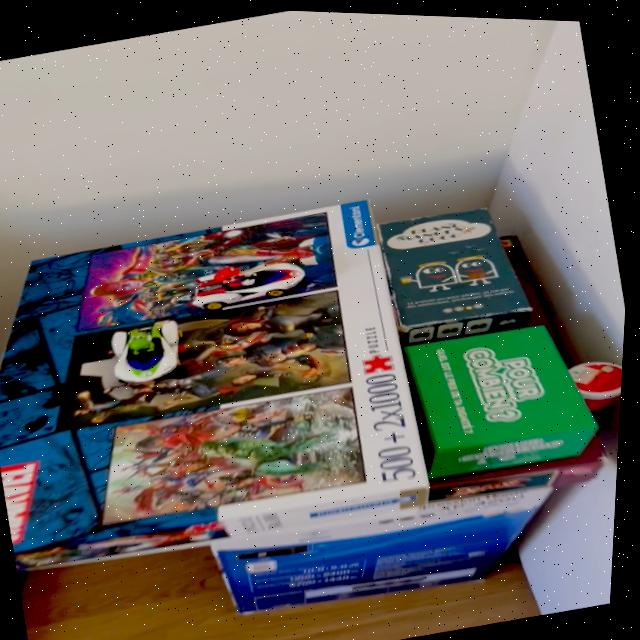mario: (186, 241, 326, 320)
yoshi: (103, 311, 201, 396)
